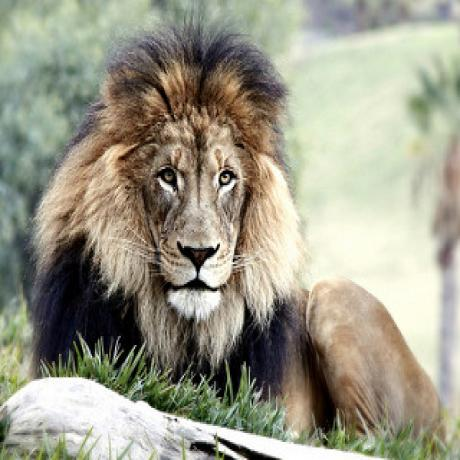Lion: (21, 9, 452, 452)
